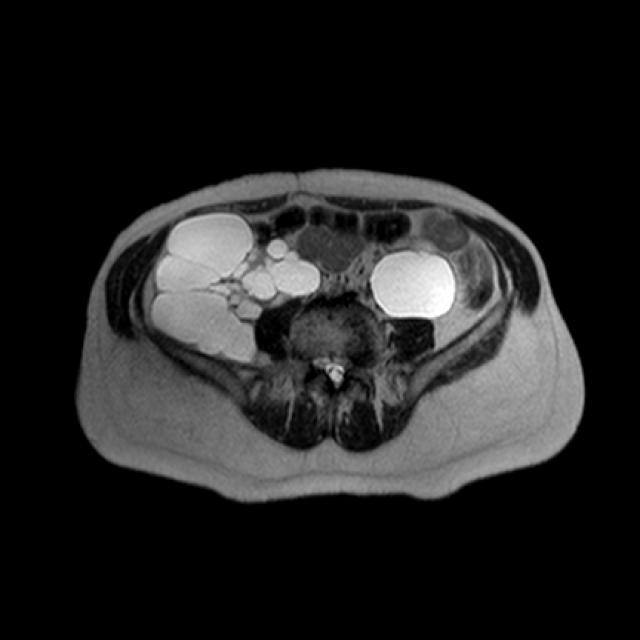sag: (150, 210, 323, 365)
sol: (369, 235, 462, 319)
